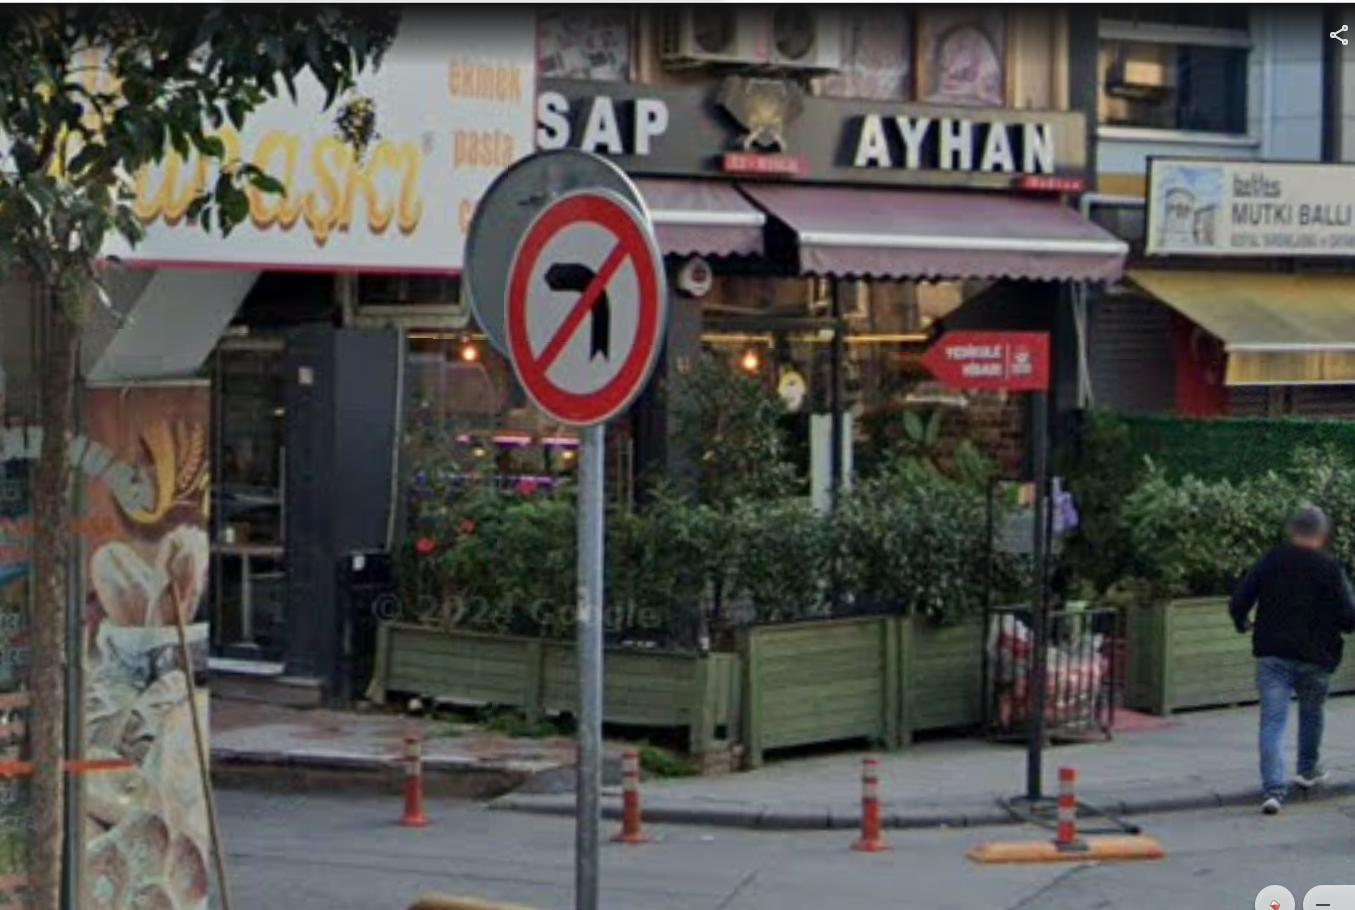leftturnsareforbidden: (505, 197, 662, 404)
